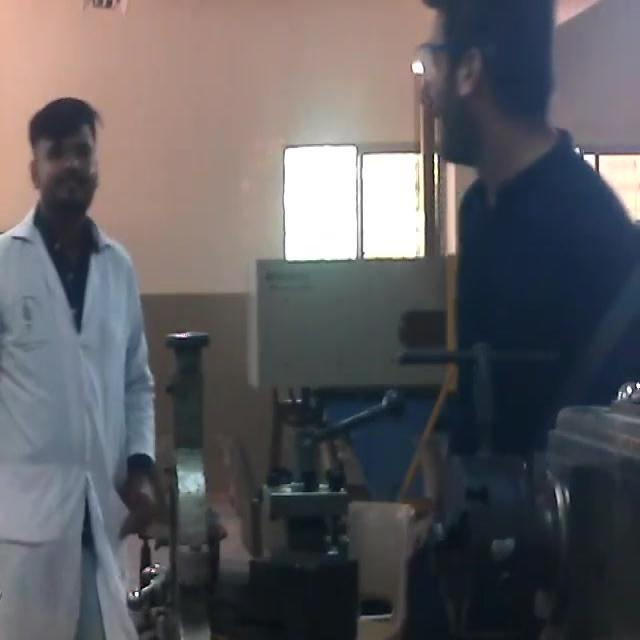googles: (411, 35, 441, 93)
labcoat: (1, 197, 156, 640)
